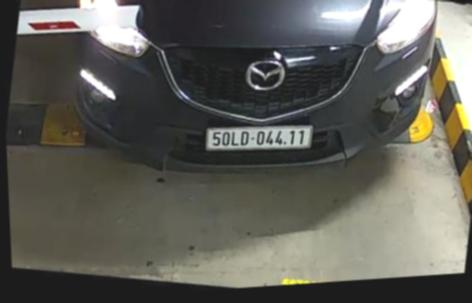License_Plate: (202, 113, 321, 166)
